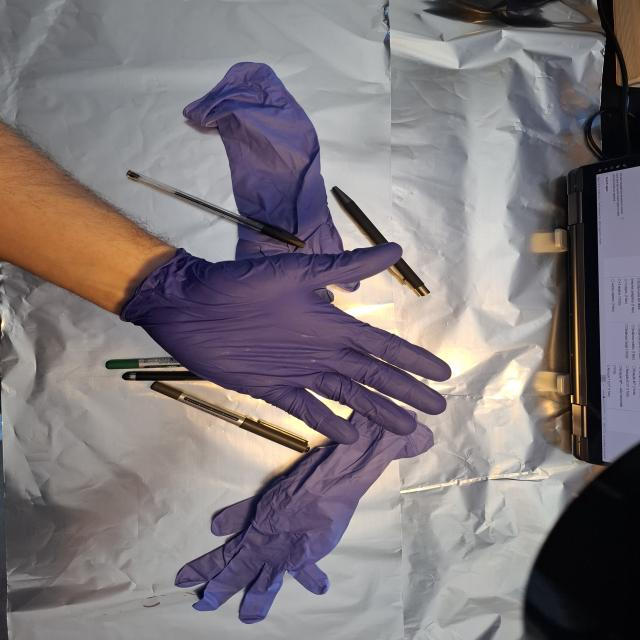glove_on: (118, 241, 457, 447)
